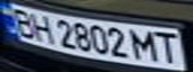0: (87, 22, 109, 56)
2: (106, 25, 130, 60), (51, 16, 75, 50)
8: (69, 20, 93, 53)
B: (6, 6, 39, 38)
H: (27, 11, 57, 44)
M: (130, 27, 163, 63)
T: (151, 29, 184, 64)
